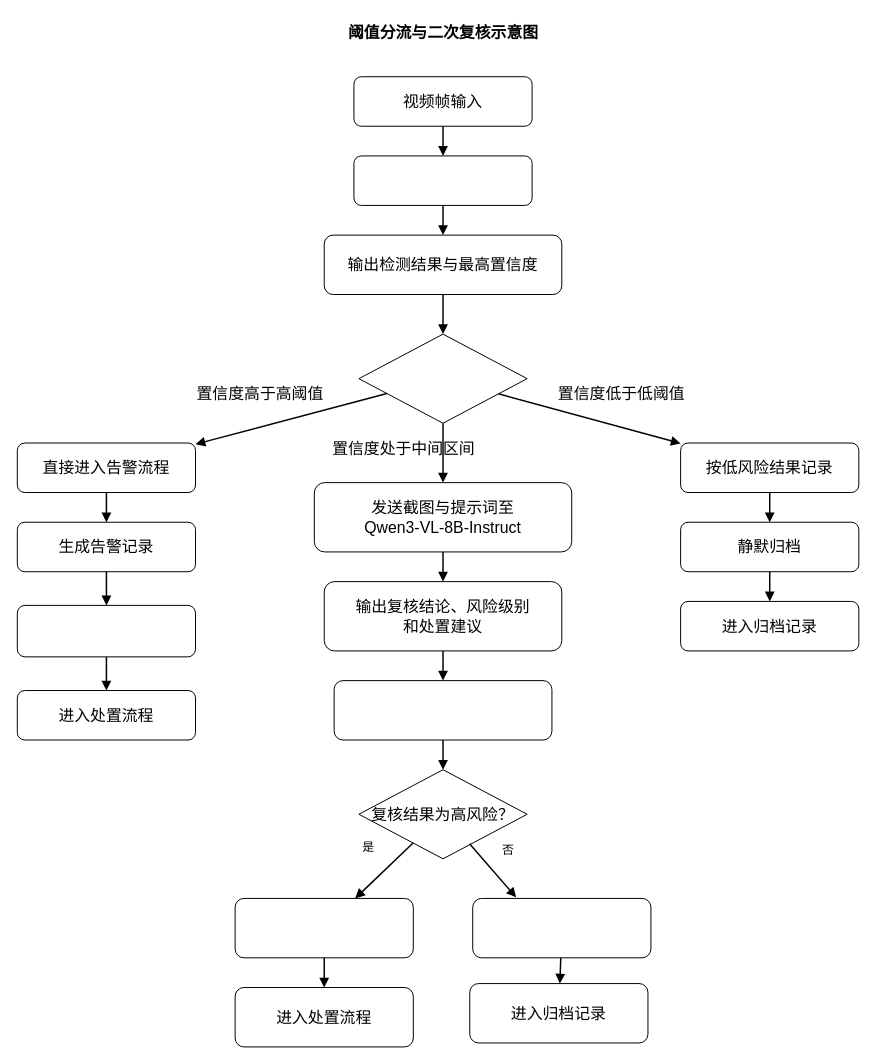
The diagram is 876 pixels wide and 1064 high, and some of its shapes have lost their labels. The centre of each missing label's shape, as x and y in pixels:
YOLO11前置检测: pixel 442 180
实时推送至前端并 加入任务对列: pixel 106 630
真实火灾/需人工确认: pixel 323 927
置信度区间判定: pixel 442 378
解析结果并映射告警状态: pixel 442 710
误报/低风险: pixel 561 927
